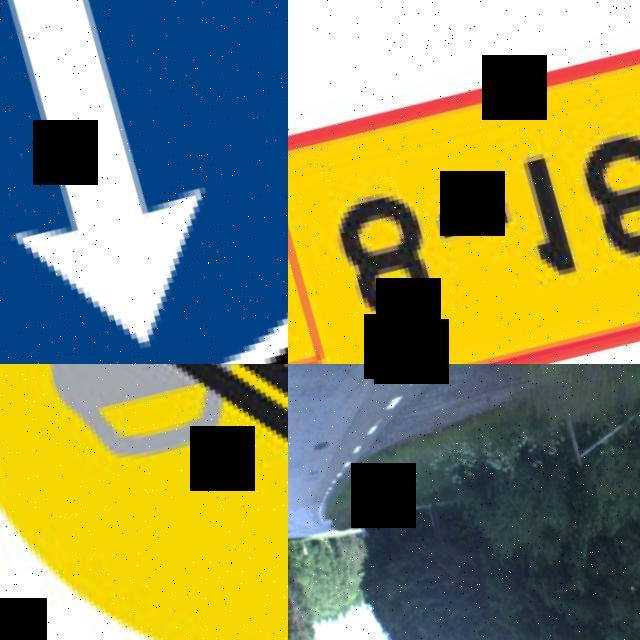108: (0, 364, 288, 640)
181: (288, 21, 640, 364)
Straight ahead: (0, 0, 288, 364)
